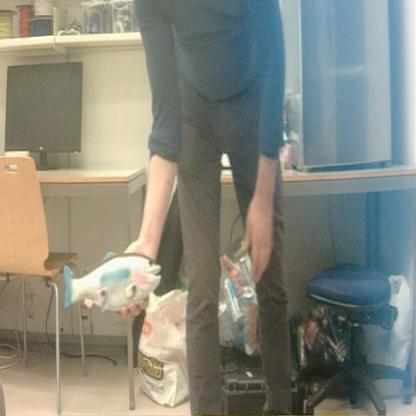rubberfish: (58, 247, 164, 319)
